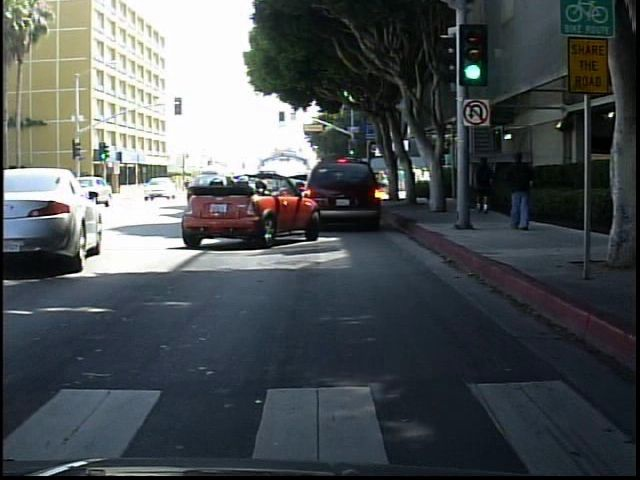person: (504, 141, 541, 235), (472, 149, 502, 219)
